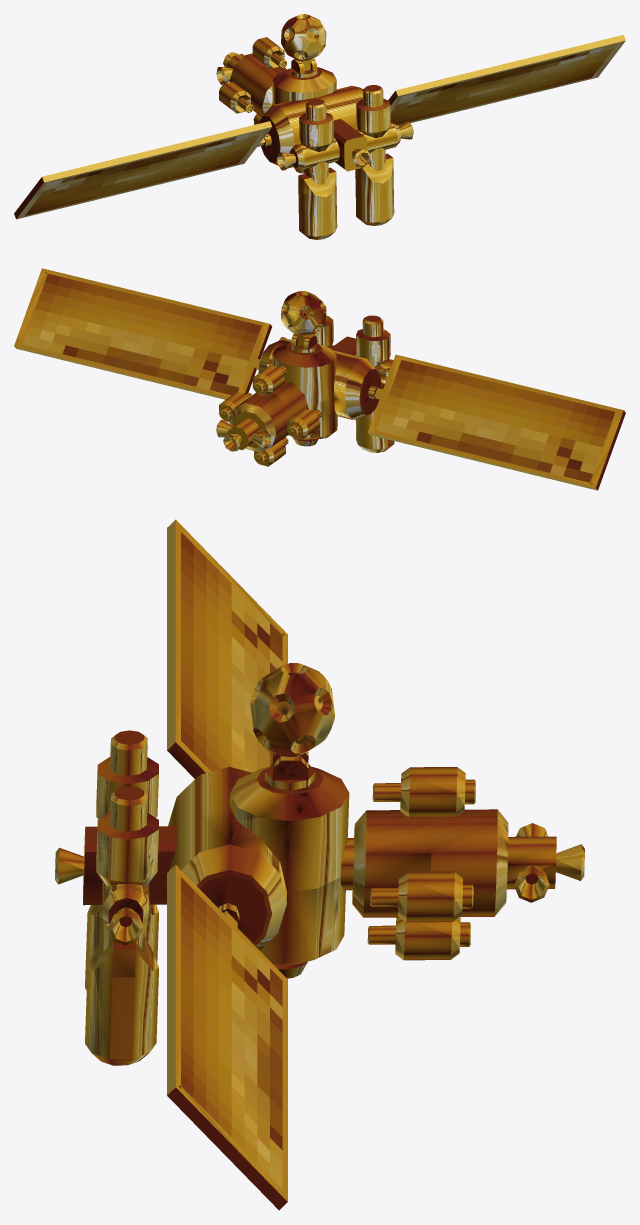
Rendered from Beam_Satellite(Gold).obj.
3 views of the same model, one above another, from view 1: azimuth 30°, elevation 25°; view 2: azimuth 150°, elevation 25°; view 3: azimuth 270°, elevation 25° (orthographic). The views are drawn at different scales.
Parts seen in each view (by area): view 1: mesh_1_10.nr, mesh_1_10.nr.001, mesh_1_10.nr.003; view 2: mesh_1_10.nr, mesh_1_10.nr.001, mesh_1_10.nr.003, mesh_1_10.nr.004, mesh_1_10.nr.002; view 3: mesh_1_10.nr, mesh_1_10.nr.002, mesh_1_10.nr.001, mesh_1_10.nr.004.
Boxes of the visible parts, x1,y1,x2,y2 form: mesh_1_10.nr: (14, 14, 625, 239); mesh_1_10.nr.001: (252, 37, 286, 68); mesh_1_10.nr.003: (219, 81, 253, 113); mesh_1_10.nr: (14, 268, 625, 490); mesh_1_10.nr.001: (252, 365, 286, 396); mesh_1_10.nr.003: (287, 408, 321, 439); mesh_1_10.nr.004: (254, 437, 288, 466); mesh_1_10.nr.002: (219, 392, 252, 421); mesh_1_10.nr: (55, 519, 584, 1210); mesh_1_10.nr.002: (370, 871, 473, 922); mesh_1_10.nr.001: (372, 767, 475, 817); mesh_1_10.nr.004: (367, 917, 470, 960).
Bounding box in the file's own units: 44.75 × 13.17 × 17.65.
